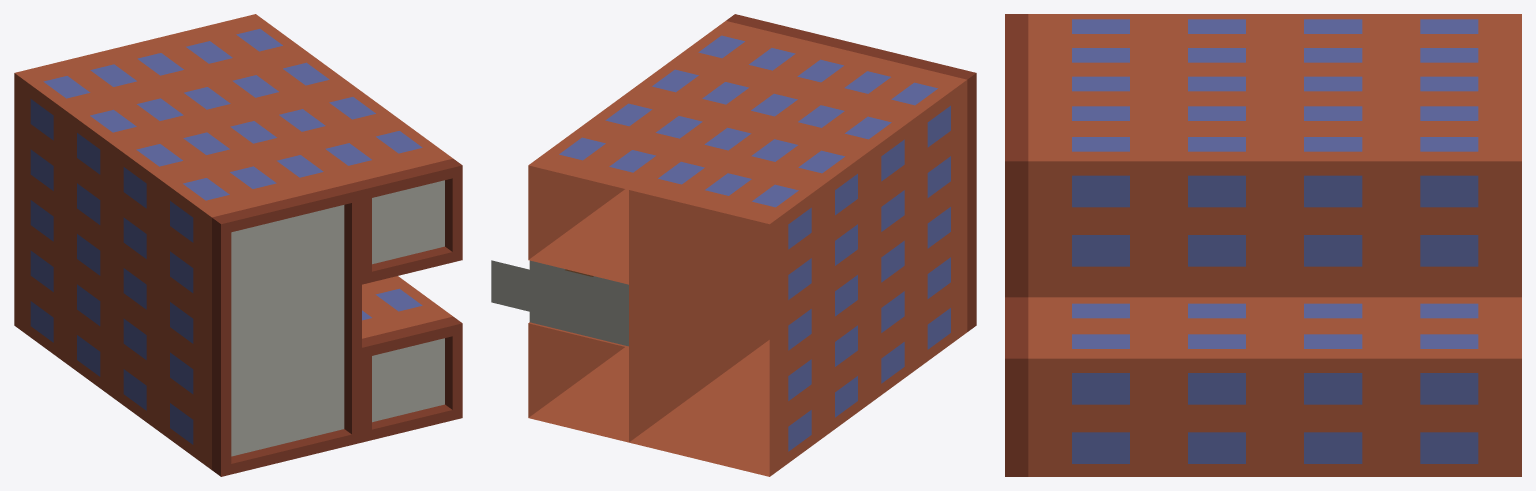
Rendered from complete.glb.
The picture shows the model from 3 angles, left to right: view 1: azimuth 30°, elevation 25°; view 2: azimuth 150°, elevation 25°; view 3: azimuth 270°, elevation 25°; orthographic projection. The views are drawn at different scales.
Visible parts, largest first — view 1: done; view 2: done; view 3: done.
Part boxes in pixels (left/top/right/bottom): done: left=14, top=14, right=462, bottom=476; done: left=491, top=14, right=976, bottom=476; done: left=1005, top=14, right=1521, bottom=476.
Bounding box in the file's own units: 13.96 × 12.12 × 17.8.
